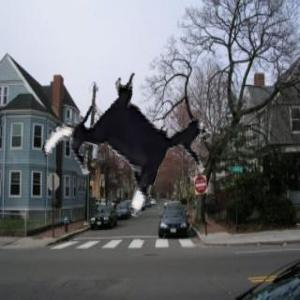drone: (39, 60, 220, 241)
